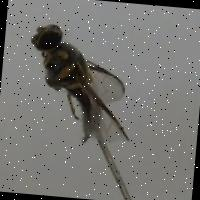Oriental-fruit-fly: (17, 5, 152, 158)
